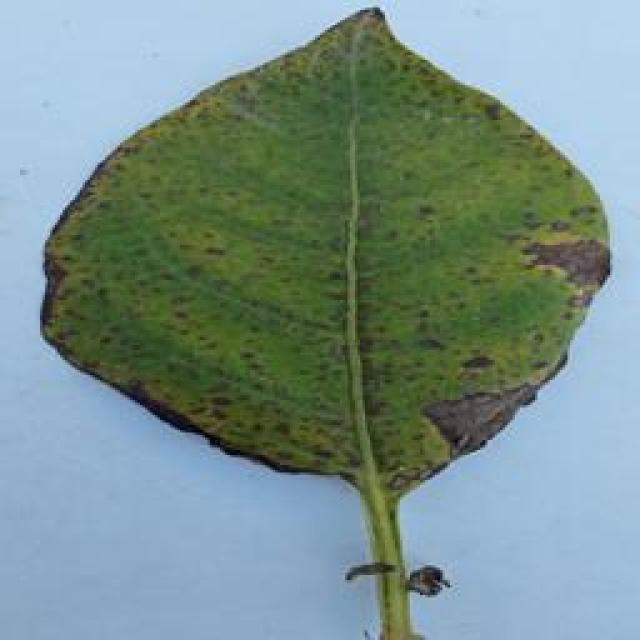Potato_Early_Blight: (35, 0, 635, 515)
